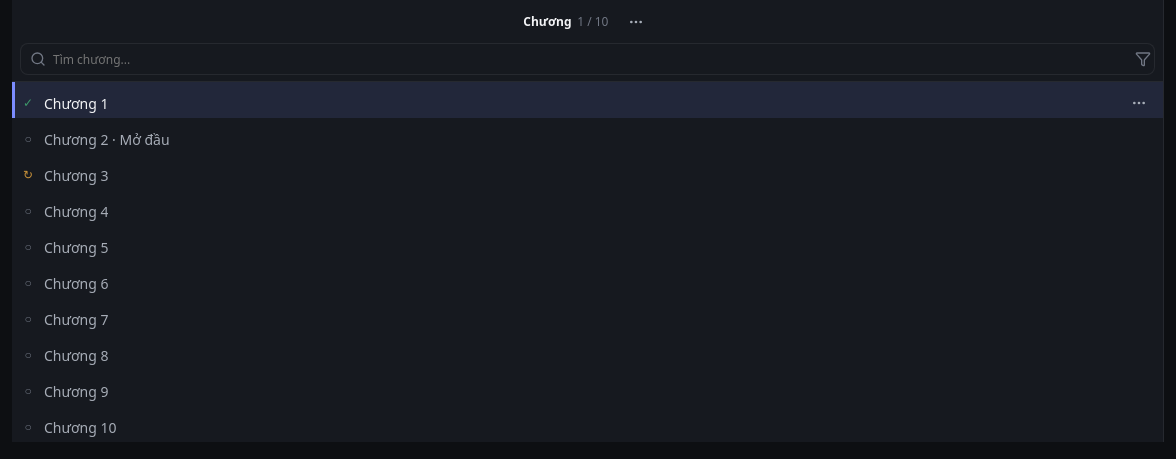
Scenario: ChapterNavigator › shows filter chip when status filter active
The image size is (1176, 459).
Click the button named "Lọc chương" at (1139, 59), box [1125,45,1153,73]
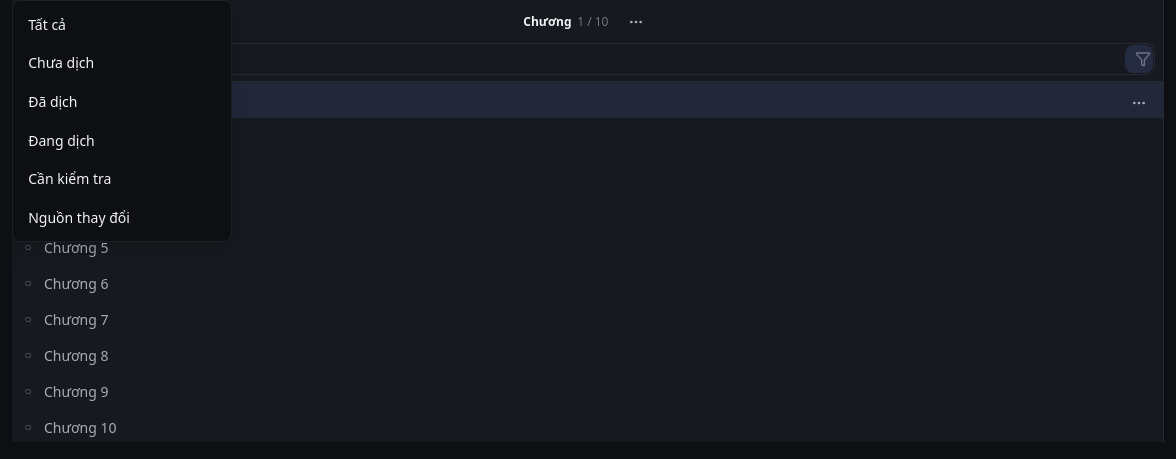
Click the menu item "Chưa dịch" at (122, 63), box [17,44,227,82]
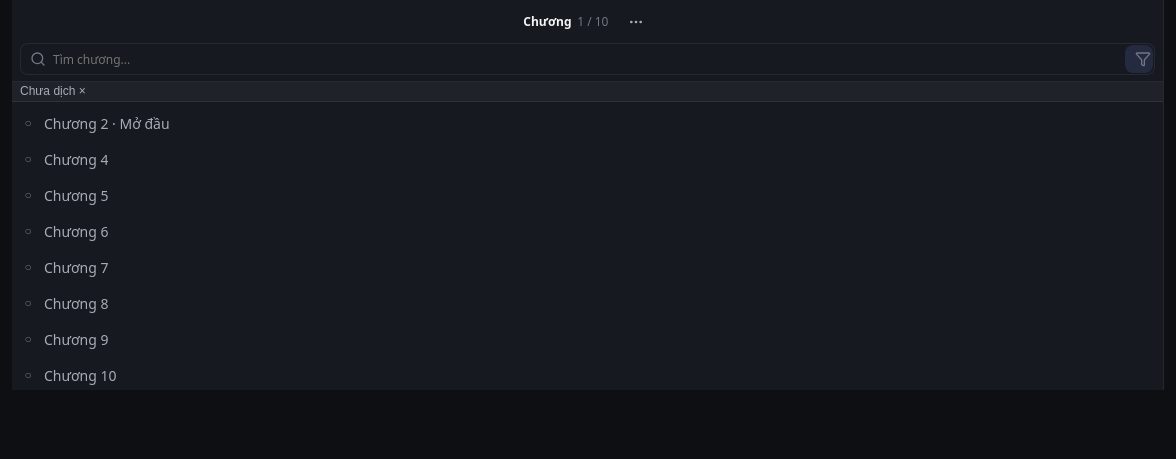
Check: the button "Chưa dịch ×" is shown, box [12,82,1163,102]
